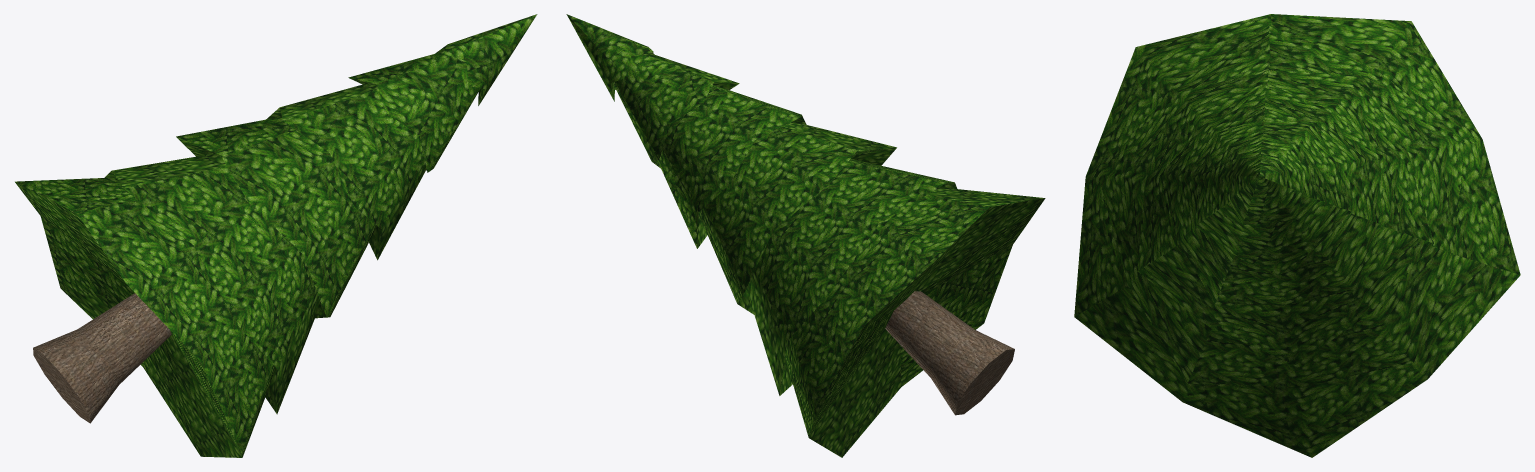
File: treefalls5.obj
3 views of the same model, side by side, from view 1: azimuth 30°, elevation 25°; view 2: azimuth 150°, elevation 25°; view 3: azimuth 270°, elevation 25° (orthographic). The views are drawn at different scales.
Parts seen in each view (by area): view 1: Cylinder.002_Cylinder.013, Cylinder.001_Cylinder.012; view 2: Cylinder.002_Cylinder.013, Cylinder.001_Cylinder.012; view 3: Cylinder.002_Cylinder.013.
Part boxes in pixels (x1,y1,x2,y2): Cylinder.002_Cylinder.013: (15, 14, 537, 457); Cylinder.001_Cylinder.012: (33, 293, 171, 423); Cylinder.002_Cylinder.013: (566, 14, 1045, 457); Cylinder.001_Cylinder.012: (885, 291, 1014, 415); Cylinder.002_Cylinder.013: (1074, 14, 1520, 457).
Size of the model in its own units: 3.51 by 2.65 by 2.27.
